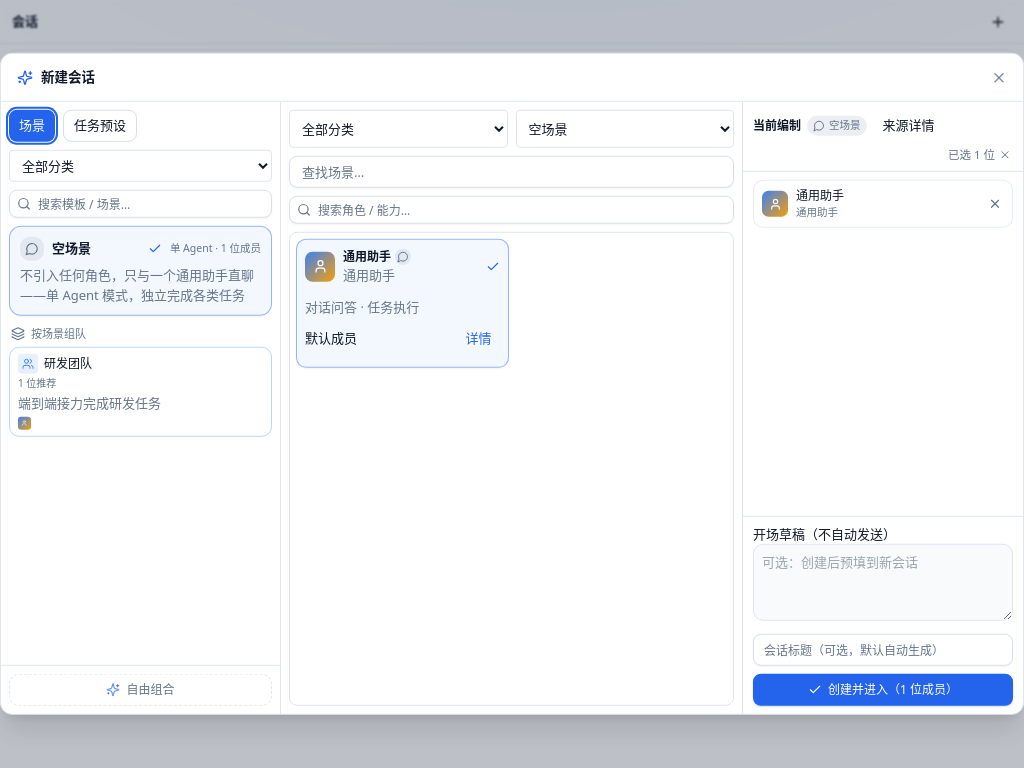
Scenario: 空场景入口 · 命令面板（M50） › pendingCreate 经 SessionList 消费 → 组队台同源预选 1 位
The image size is (1024, 768).
Expected: the text "已选 1 位" is shown, left=948, top=146, right=995, bottom=163
预选编制可微调：移出后回到 0 位（「已微调」显形）
Click the button named "移出编制": (995, 204) left=986, top=195, right=1004, bottom=213
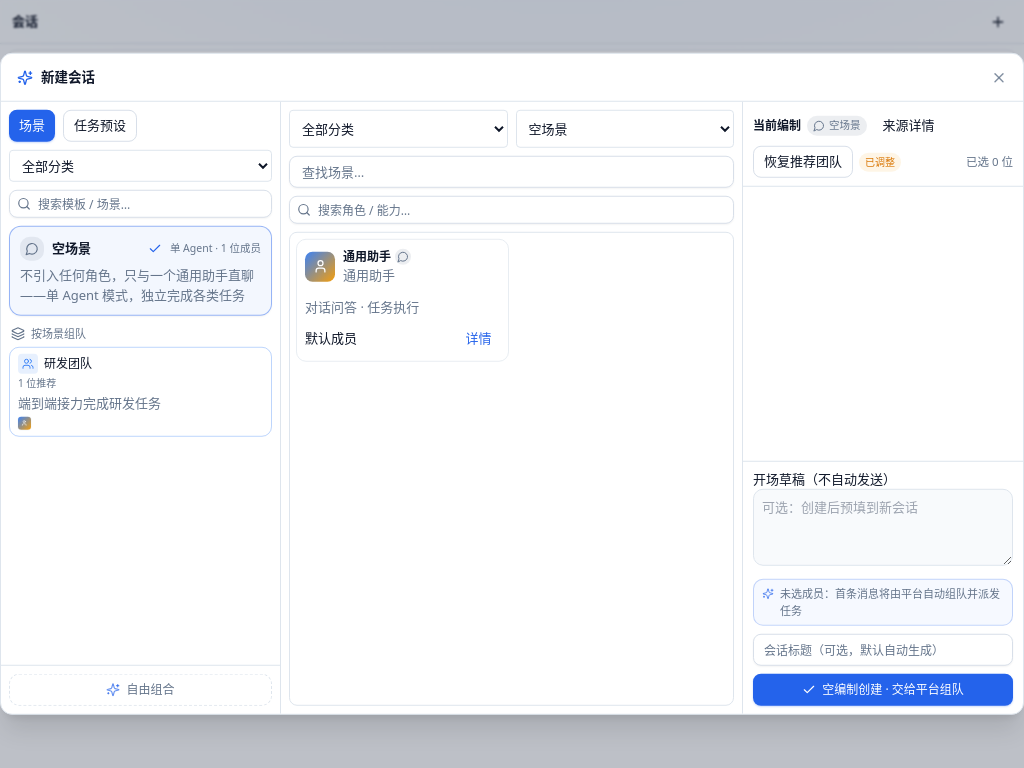
Expected: the text "已选 0 位" is shown, left=966, top=153, right=1013, bottom=170
